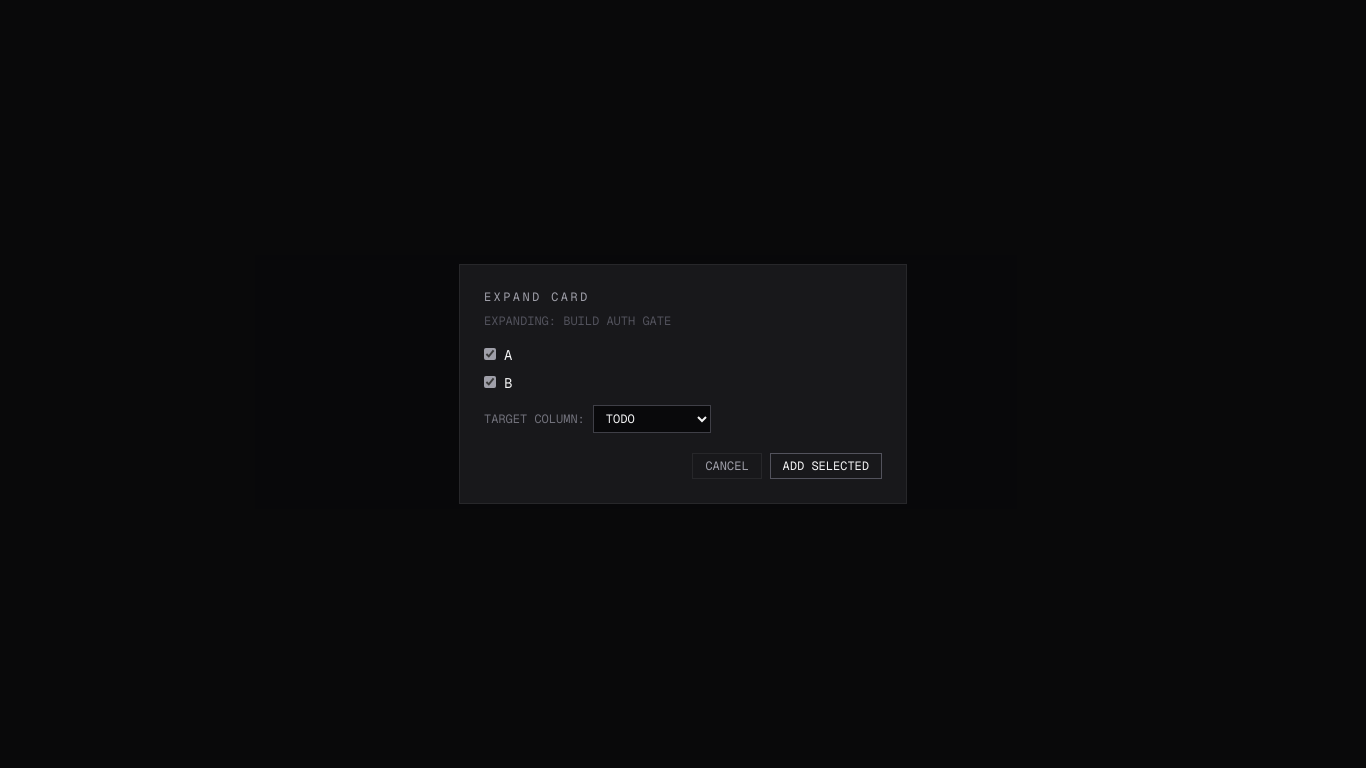
Test: ExpandCardModal › unchecking all suggestions disables the button
Expected: the button "Add Selected" is enabled, [770,453,882,479]
Click the checkbox labelled "A" at [490, 354], box [484,348,496,360]
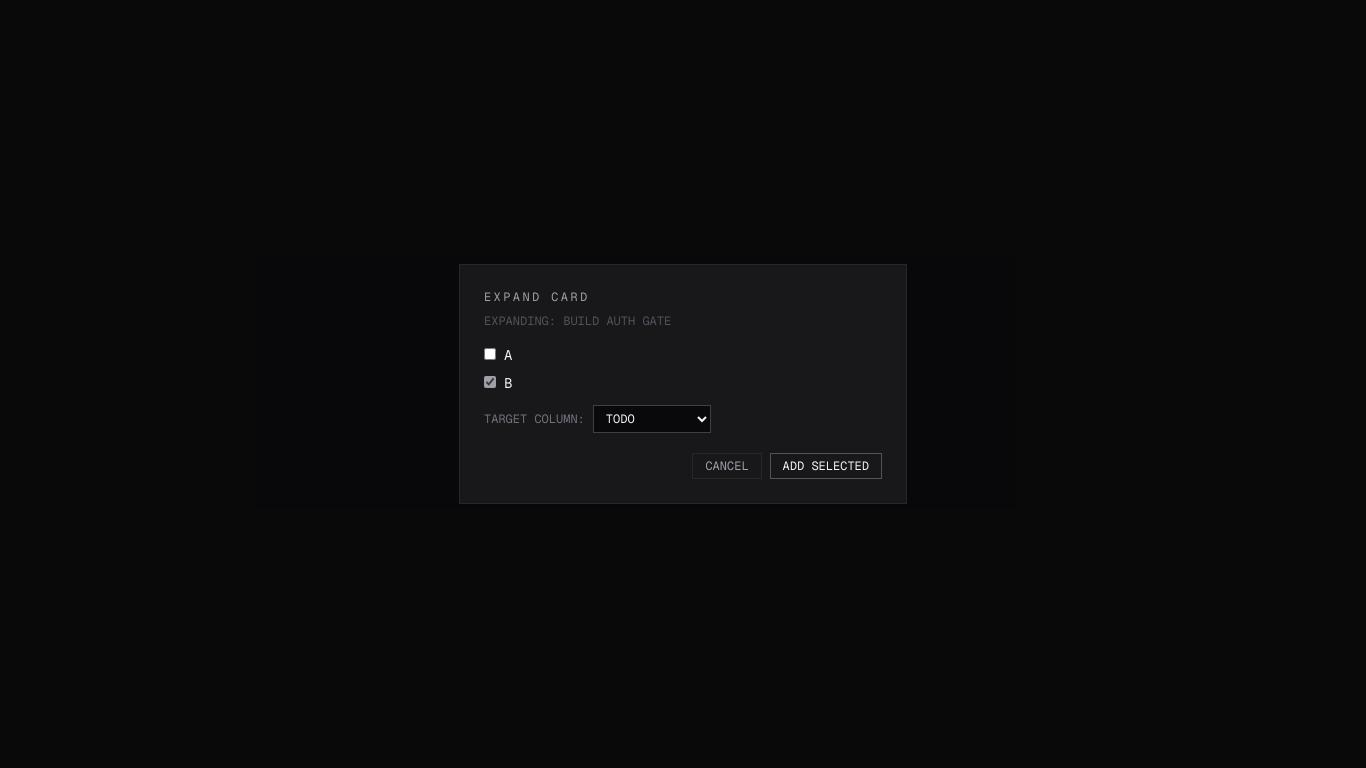
Click the checkbox labelled "B" at [490, 382], box [484,376,496,388]
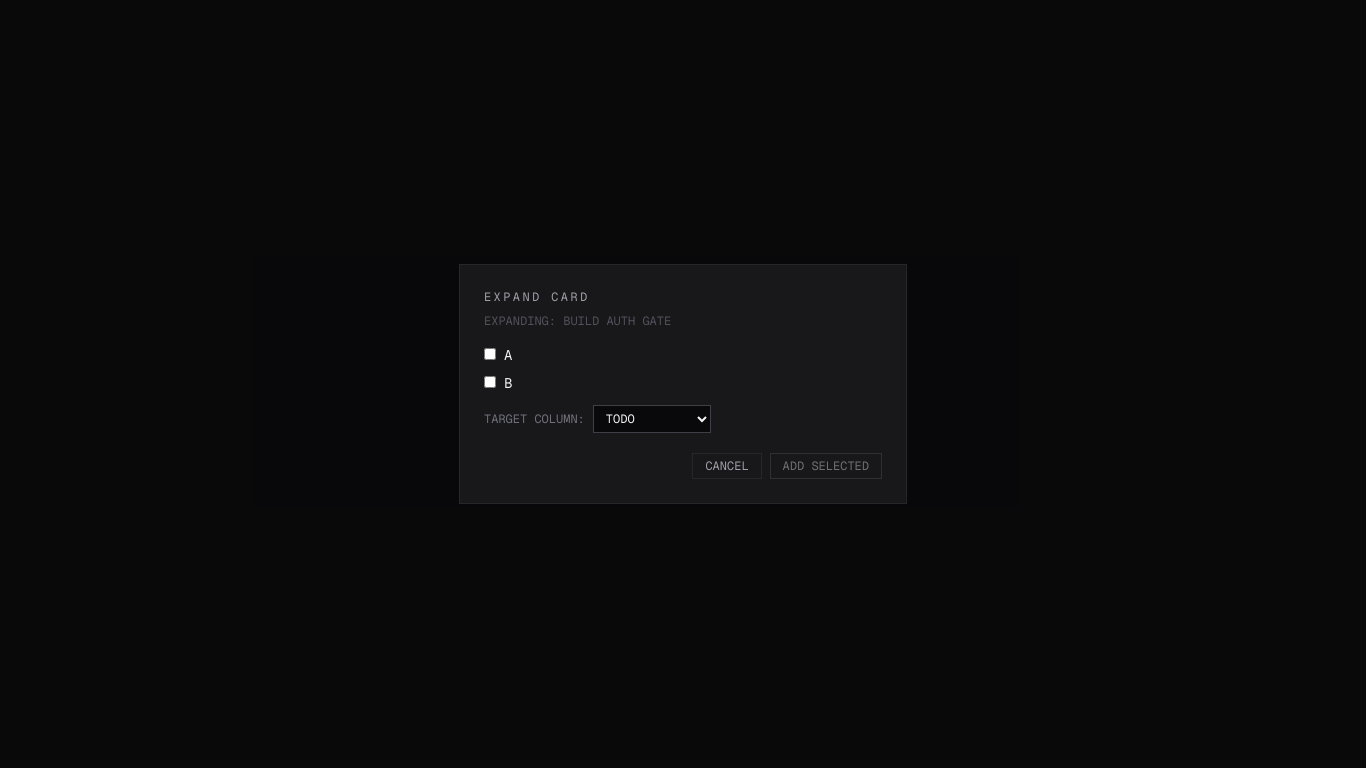
Now the button "Add Selected" is disabled, box [770,453,882,479]
